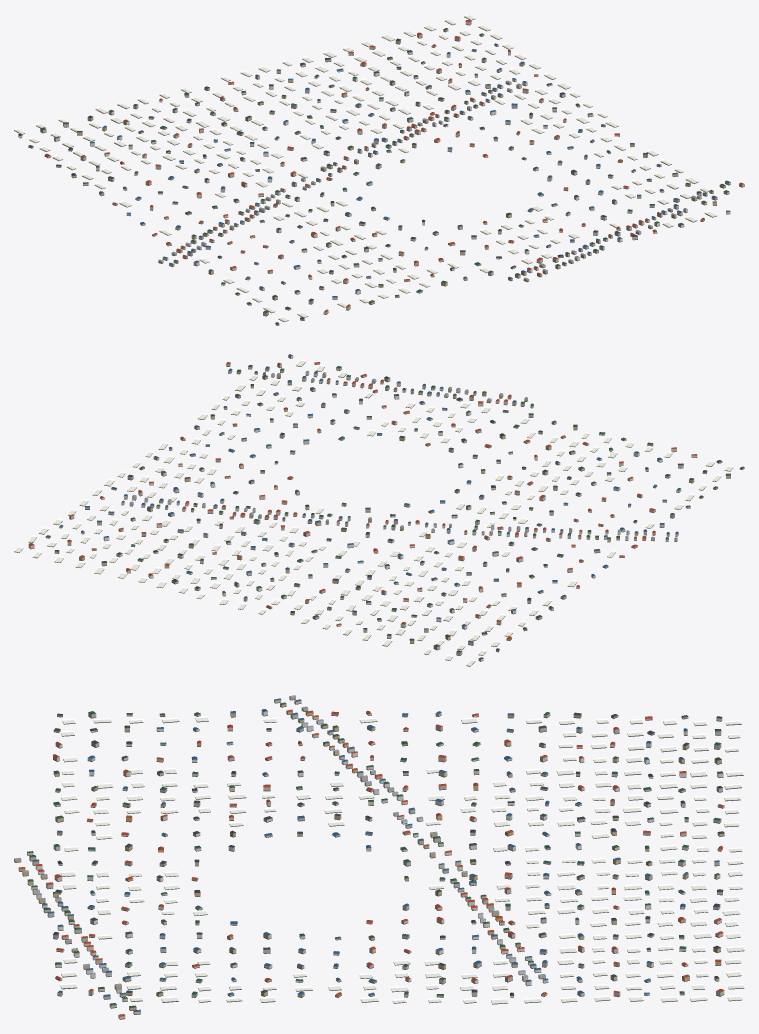
Rendered from buildings_T_W04_N06.glb.
3 views of the same model, one above another, from view 1: azimuth 30°, elevation 25°; view 2: azimuth 150°, elevation 25°; view 3: azimuth 270°, elevation 25° (orthographic). The views are drawn at different scales.
Visible parts, largest first — view 1: T_W04_N06_roofs_agri_greenhouse_arch, T_W04_N06_slope_seating_foundations, T_W04_N06_walls_wall_french_ochre_villa, T_W04_N06_walls_wall_modern_warm_white, T_W04_N06_walls_wall_pastel_sand_gray, T_W04_N06_walls_wall_dalat_cream_stucco, T_W04_N06_roofs_roof_highland_blue_gable, T_W04_N06_roofs_roof_terracotta_gable, T_W04_N06_roofs_roof_pine_green_hip, T_W04_N06_roofs_roof_slate_French_villa_hip; view 2: T_W04_N06_roofs_agri_greenhouse_arch, T_W04_N06_slope_seating_foundations, T_W04_N06_walls_wall_french_ochre_villa, T_W04_N06_walls_wall_modern_warm_white, T_W04_N06_walls_wall_pastel_sand_gray, T_W04_N06_walls_wall_dalat_cream_stucco, T_W04_N06_roofs_roof_terracotta_gable, T_W04_N06_roofs_roof_highland_blue_gable, T_W04_N06_roofs_roof_pine_green_hip, T_W04_N06_roofs_roof_slate_French_villa_hip; view 3: T_W04_N06_roofs_agri_greenhouse_arch, T_W04_N06_slope_seating_foundations, T_W04_N06_walls_wall_french_ochre_villa, T_W04_N06_walls_wall_modern_warm_white, T_W04_N06_walls_wall_pastel_sand_gray, T_W04_N06_walls_wall_dalat_cream_stucco, T_W04_N06_roofs_roof_terracotta_gable, T_W04_N06_roofs_roof_highland_blue_gable, T_W04_N06_roofs_roof_pine_green_hip, T_W04_N06_roofs_roof_slate_French_villa_hip, T_W04_N06_roofs_roof_zinc_silver_gable.
Part boxes in pixels (x1=…): T_W04_N06_roofs_agri_greenhouse_arch: x1=14, y1=14, x2=717, y2=321; T_W04_N06_slope_seating_foundations: x1=14, y1=16, x2=744, y2=325; T_W04_N06_walls_wall_french_ochre_villa: x1=44, y1=29, x2=725, y2=325; T_W04_N06_walls_wall_modern_warm_white: x1=18, y1=51, x2=701, y2=314; T_W04_N06_walls_wall_pastel_sand_gray: x1=28, y1=34, x2=717, y2=315; T_W04_N06_walls_wall_dalat_cream_stucco: x1=54, y1=20, x2=744, y2=310; T_W04_N06_roofs_roof_highland_blue_gable: x1=54, y1=43, x2=730, y2=297; T_W04_N06_roofs_roof_terracotta_gable: x1=45, y1=20, x2=743, y2=312; T_W04_N06_roofs_roof_pine_green_hip: x1=40, y1=33, x2=729, y2=313; T_W04_N06_roofs_roof_slate_French_villa_hip: x1=18, y1=28, x2=701, y2=324; T_W04_N06_roofs_agri_greenhouse_arch: x1=14, y1=359, x2=733, y2=665; T_W04_N06_slope_seating_foundations: x1=14, y1=357, x2=744, y2=666; T_W04_N06_walls_wall_french_ochre_villa: x1=54, y1=363, x2=744, y2=643; T_W04_N06_walls_wall_modern_warm_white: x1=100, y1=367, x2=706, y2=661; T_W04_N06_walls_wall_pastel_sand_gray: x1=45, y1=364, x2=730, y2=655; T_W04_N06_walls_wall_dalat_cream_stucco: x1=28, y1=355, x2=678, y2=645; T_W04_N06_roofs_roof_terracotta_gable: x1=29, y1=362, x2=697, y2=639; T_W04_N06_roofs_roof_highland_blue_gable: x1=59, y1=354, x2=680, y2=642; T_W04_N06_roofs_roof_pine_green_hip: x1=46, y1=365, x2=730, y2=652; T_W04_N06_roofs_roof_slate_French_villa_hip: x1=55, y1=375, x2=744, y2=659; T_W04_N06_roofs_agri_greenhouse_arch: x1=60, y1=716, x2=744, y2=1003; T_W04_N06_slope_seating_foundations: x1=14, y1=699, x2=744, y2=1019; T_W04_N06_walls_wall_french_ochre_villa: x1=14, y1=696, x2=724, y2=1010; T_W04_N06_walls_wall_modern_warm_white: x1=35, y1=710, x2=724, y2=996; T_W04_N06_walls_wall_pastel_sand_gray: x1=29, y1=708, x2=722, y2=999; T_W04_N06_walls_wall_dalat_cream_stucco: x1=27, y1=699, x2=724, y2=1018; T_W04_N06_roofs_roof_terracotta_gable: x1=19, y1=709, x2=724, y2=1016; T_W04_N06_roofs_roof_highland_blue_gable: x1=32, y1=698, x2=719, y2=1011; T_W04_N06_roofs_roof_pine_green_hip: x1=27, y1=702, x2=722, y2=1007; T_W04_N06_roofs_roof_slate_French_villa_hip: x1=53, y1=712, x2=724, y2=995; T_W04_N06_roofs_roof_zinc_silver_gable: x1=14, y1=695, x2=545, y2=990.
Size of the model in its own units: 1928 by 26.83 by 1849.
